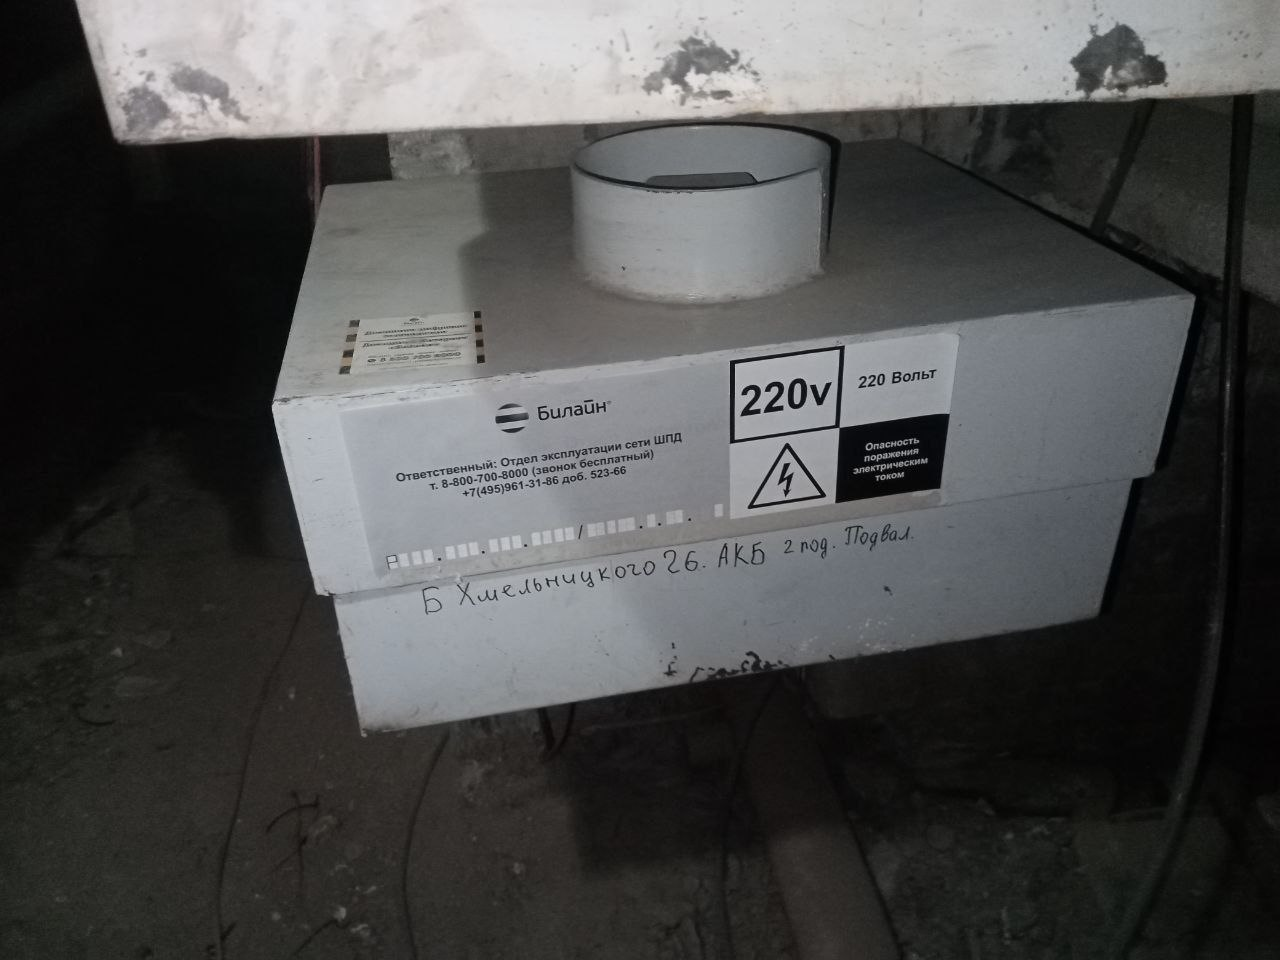shta-ps: (260, 113, 1204, 753)
